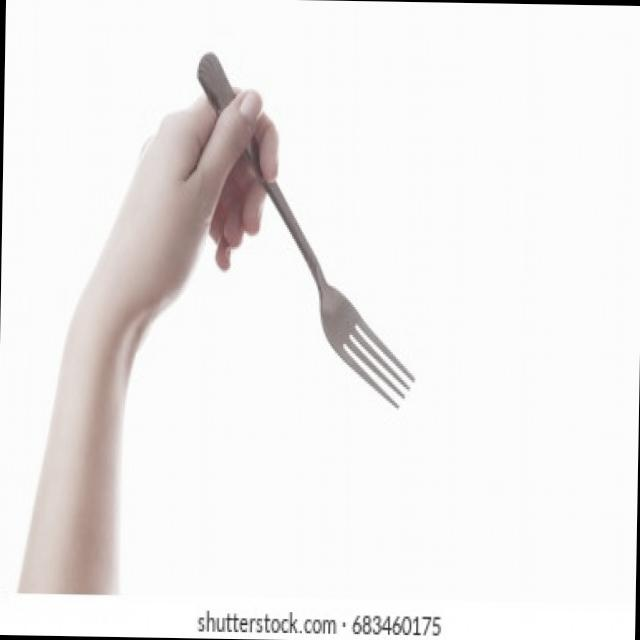fork: (190, 49, 424, 413)
